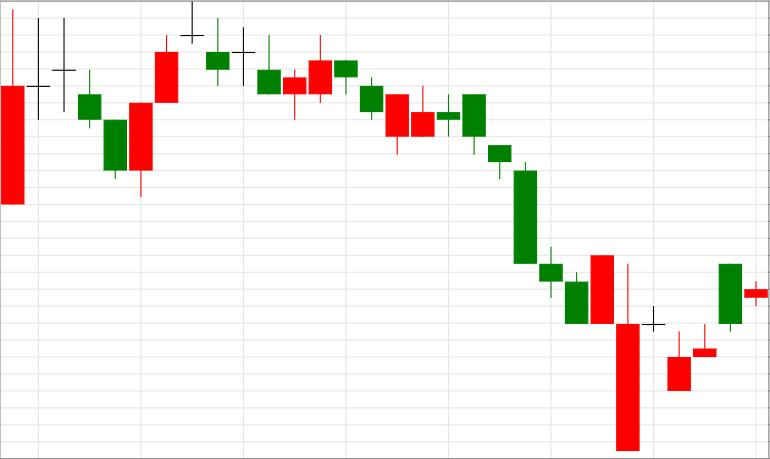bullish_engulfing_rise: (437, 94, 614, 325)
